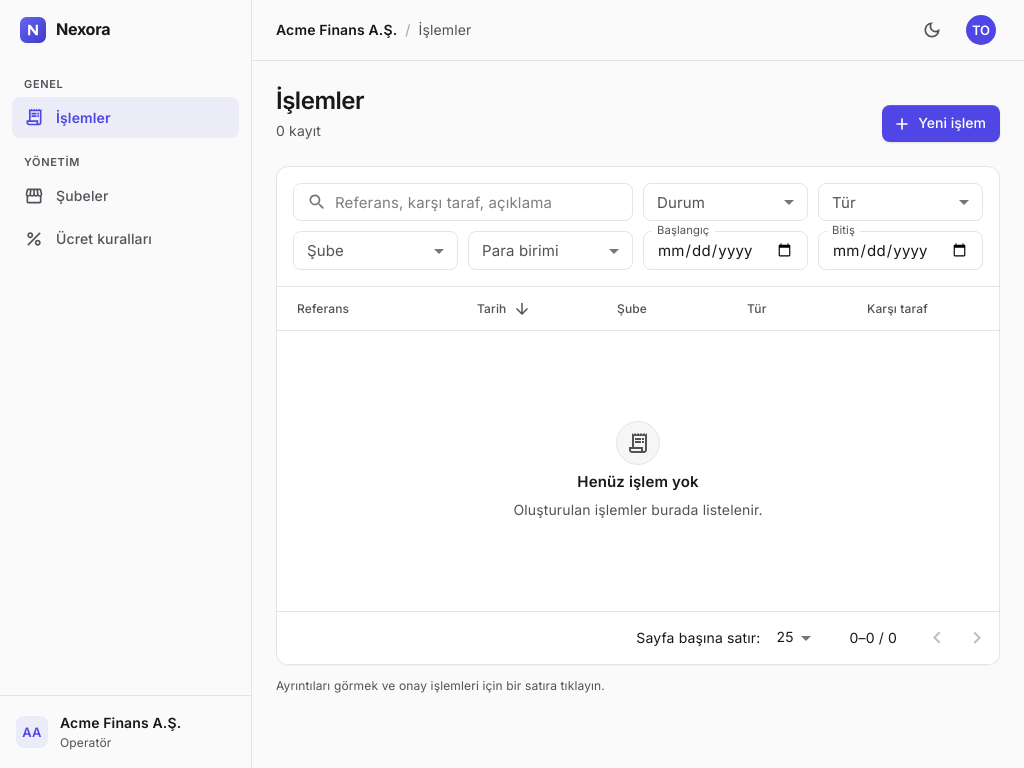
Test case: sign-in › signs out and returns to the login form
Click the button with aria-label "Hesap" at (981, 30), box [962,11,1000,49]
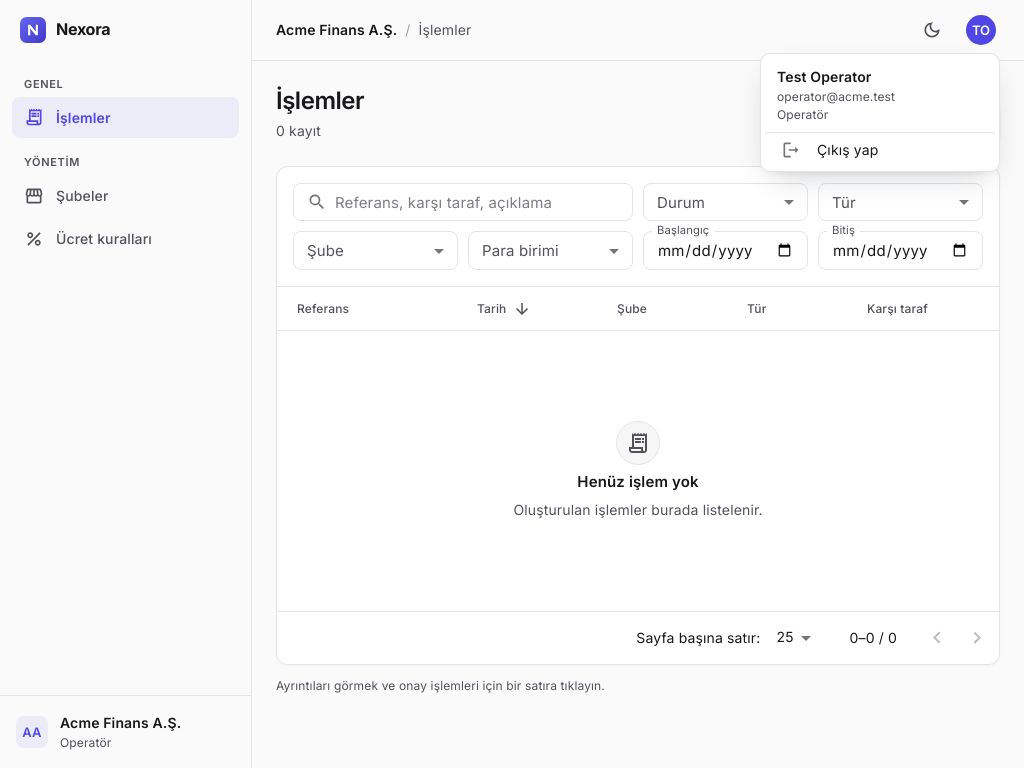
Click the menu item "Çıkış yap" at (830, 150), box [781,140,878,160]
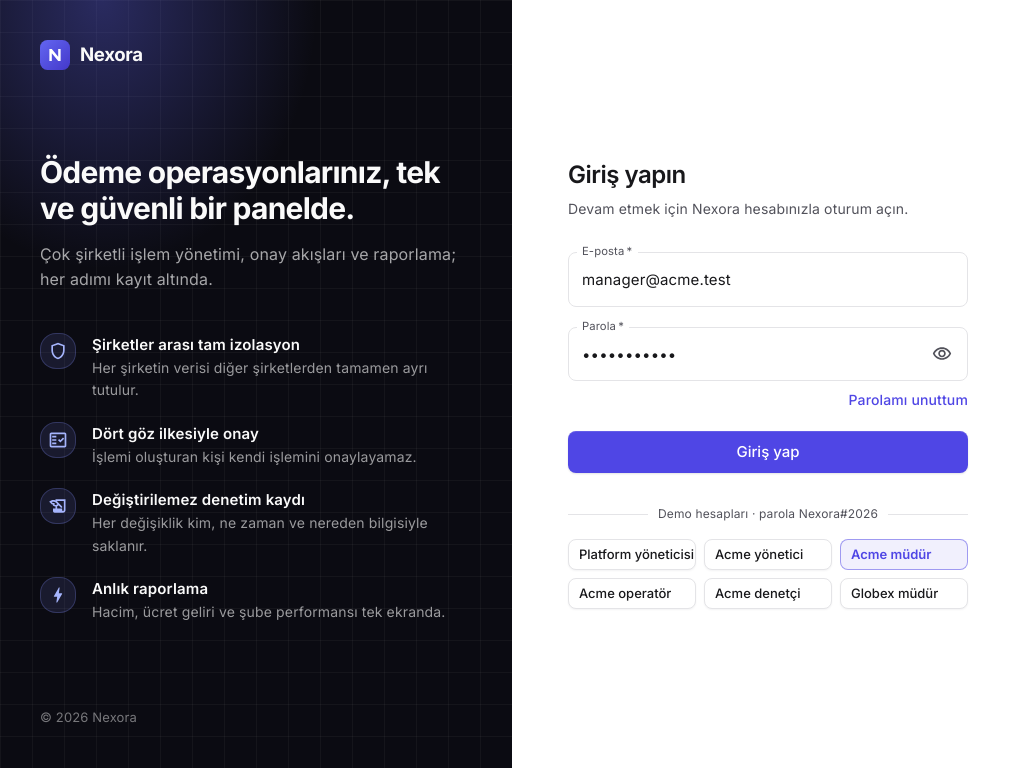
Now the button "Giriş yap" is shown, box [568,431,968,473]
